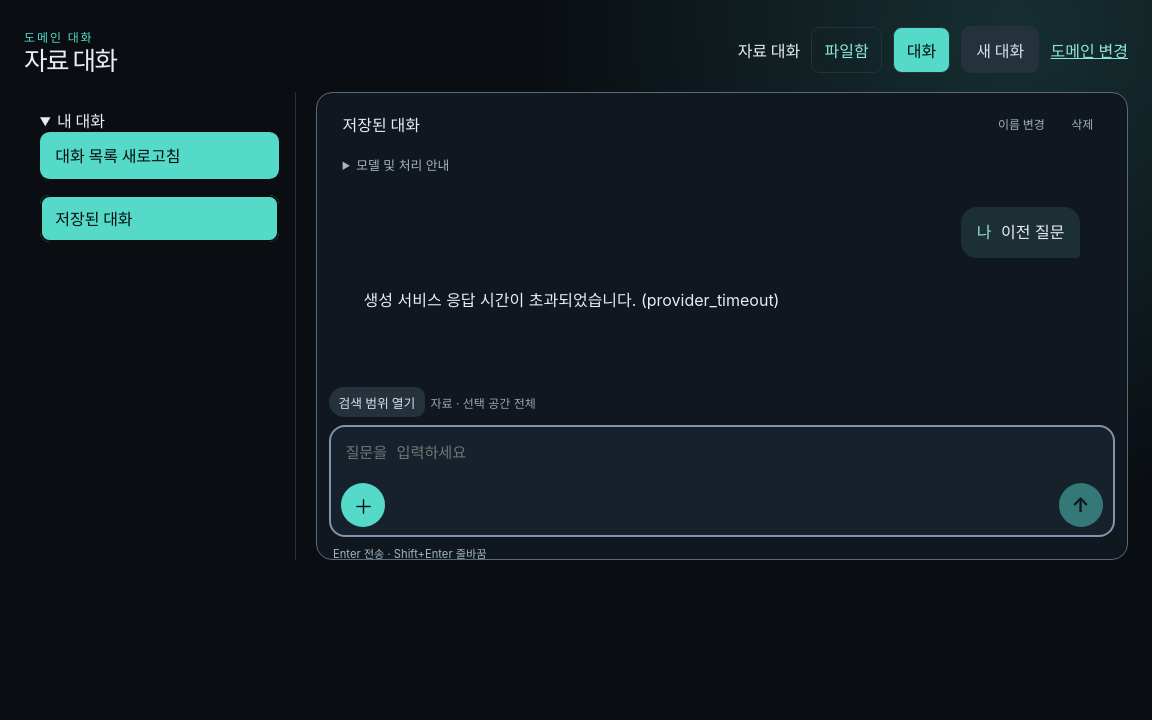
Test case: keeps an existing session draft after turn authentication expires and only resends explicitly with the same request ID
Expected: the text "이전 질문" is shown, [1001,222,1064,242]
Type "보존된 새 질문" into the text box labelled "질문" at {"x": 722, "y": 455}, box [341,435,1103,475]
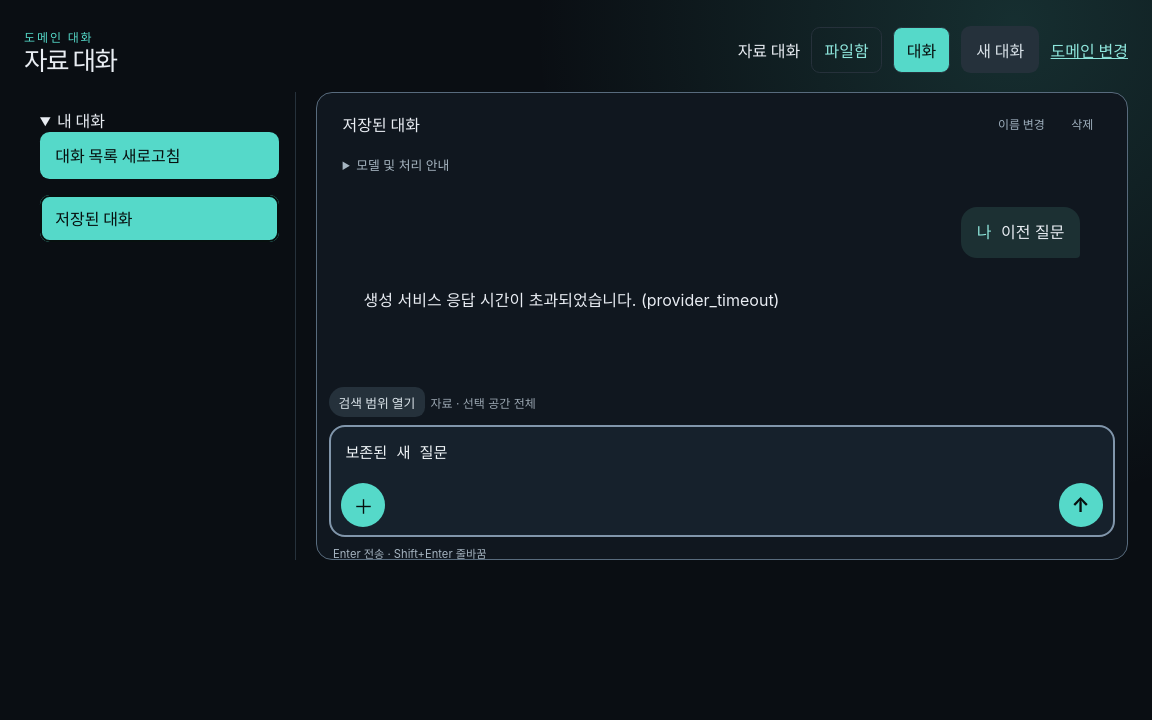
Click the button named "질문 보내기" at {"x": 1081, "y": 505}, box [1059,483,1103,527]
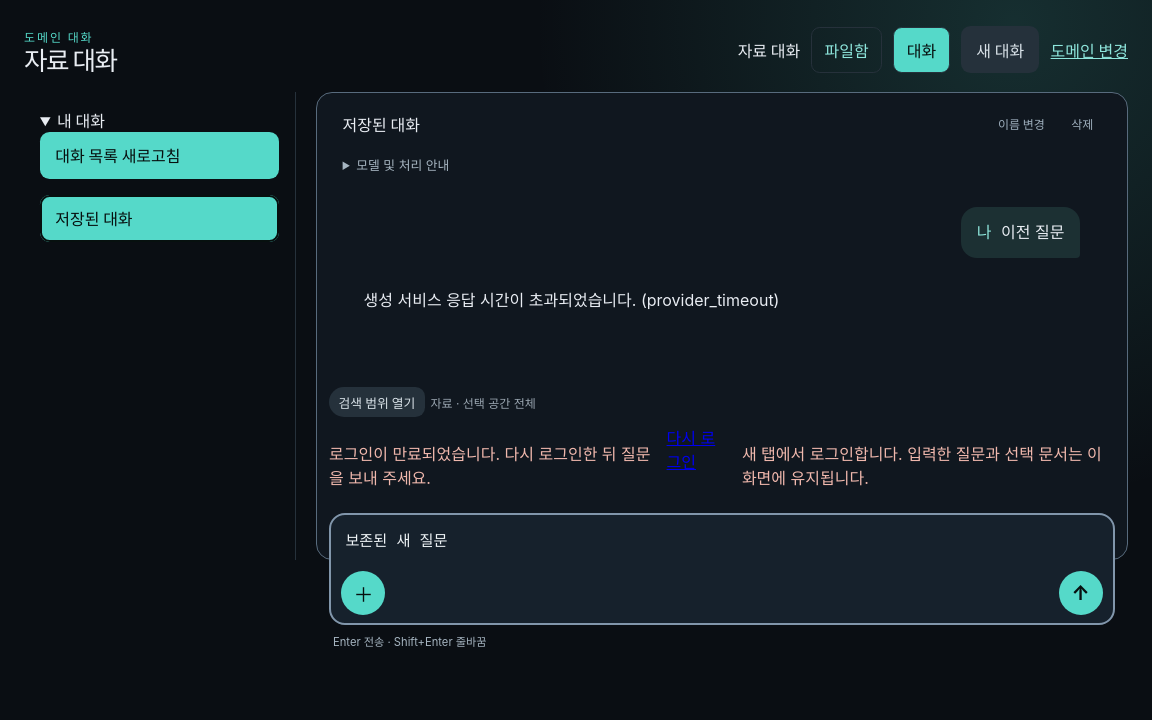
Expected: the message that starts with "로그인이 만료되었습니다. 다시 로그인한 뒤 질문을 보내 주세요." is shown, [329,444,650,488]
Click the button named "질문 보내기" at {"x": 1081, "y": 593}, box [1059,571,1103,615]
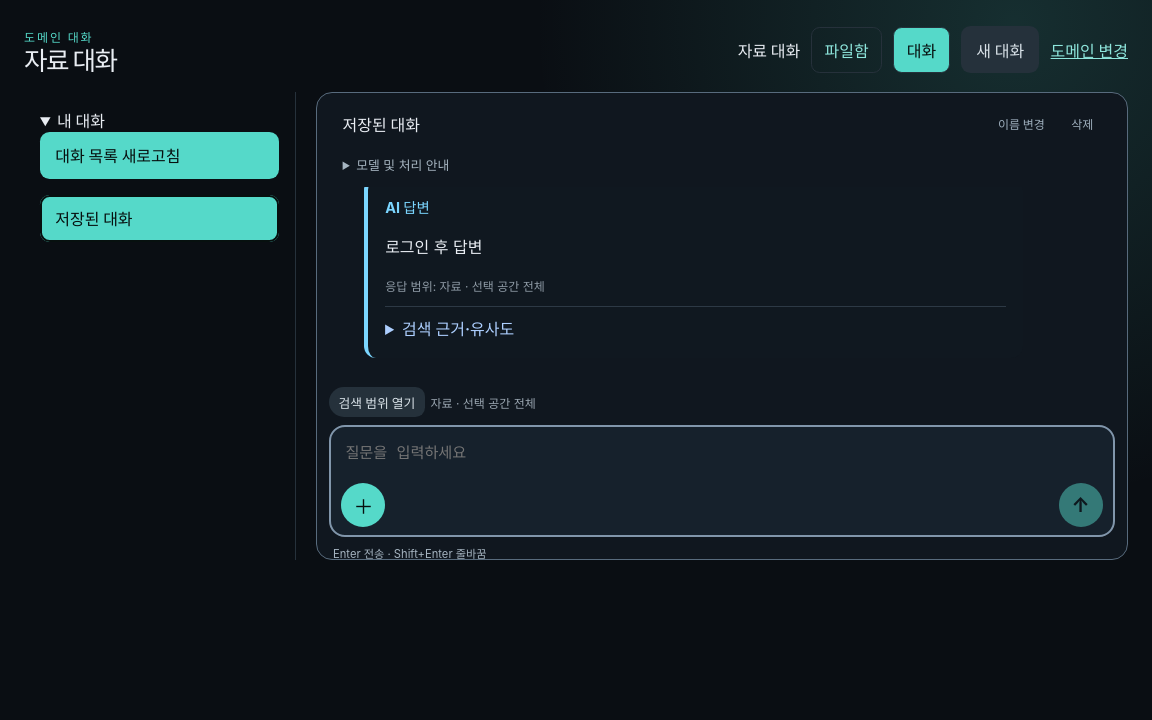
Expected: the text "로그인 후 답변" is shown, [385,237,482,257]
